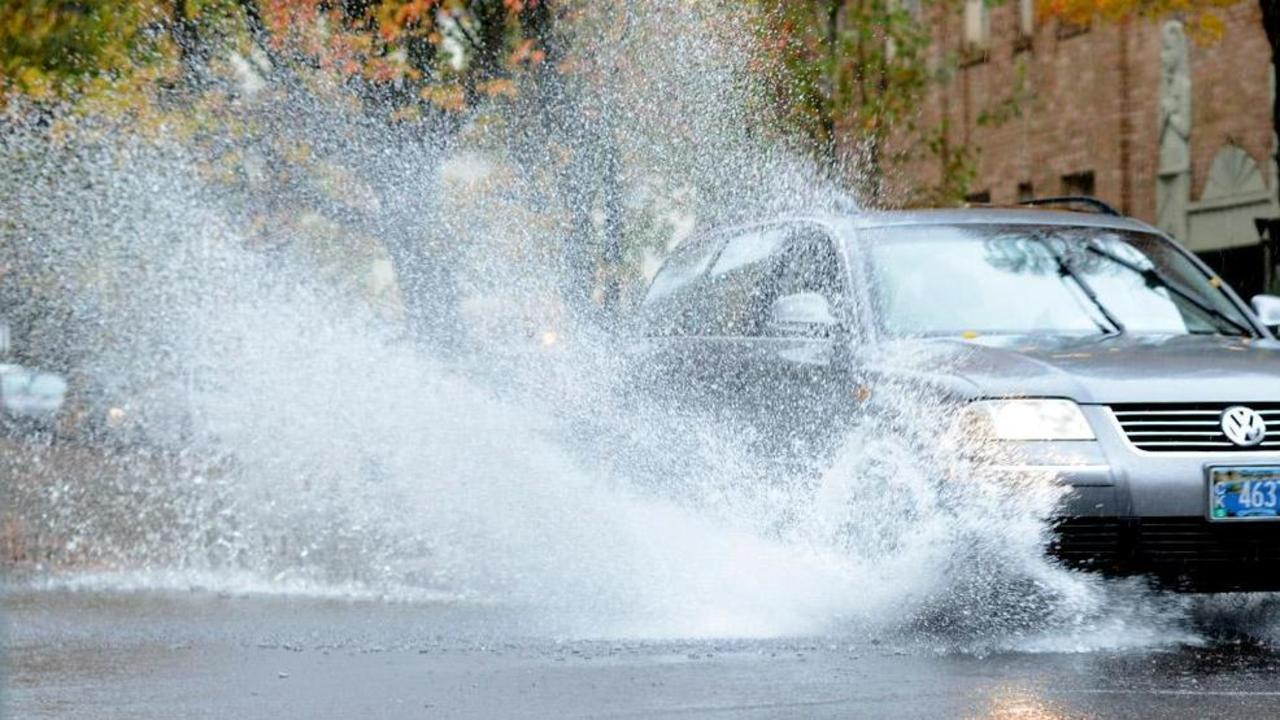car: (604, 204, 1279, 584)
